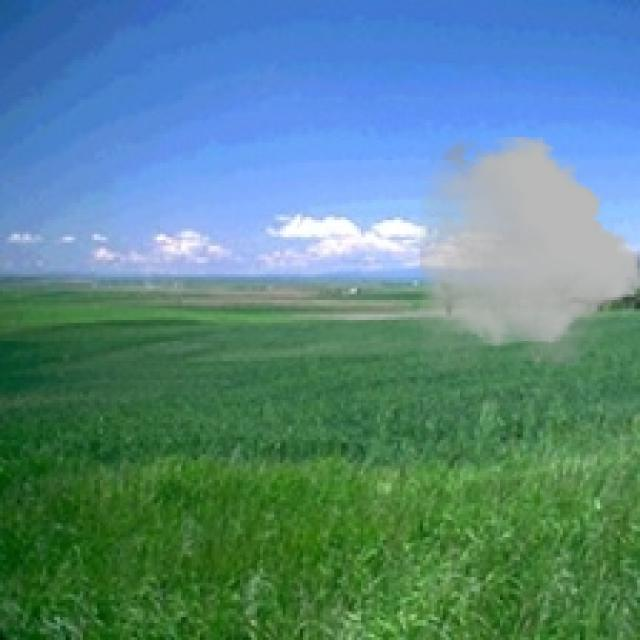smoke: (420, 132, 637, 377)
